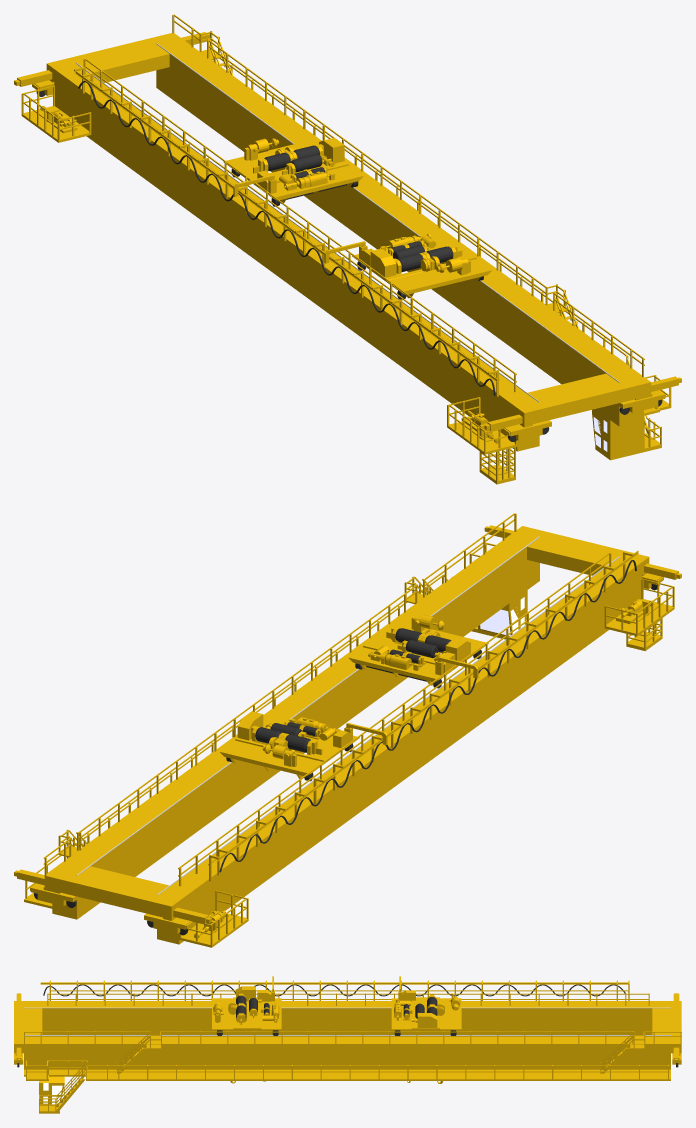
3 views of the same model, one above another, from view 1: azimuth 30°, elevation 25°; view 2: azimuth 150°, elevation 25°; view 3: azimuth 270°, elevation 25° (orthographic). The views are drawn at different scales.
Parts seen in each view (by area): view 1: 3_Factory_C_811_Body, 3_Factory_C_811_Head_02, 3_Factory_C_811_Head_01; view 2: 3_Factory_C_811_Body, 3_Factory_C_811_Head_02, 3_Factory_C_811_Head_01; view 3: 3_Factory_C_811_Body, 3_Factory_C_811_Head_01, 3_Factory_C_811_Head_02.
Boxes of the visible parts, x1,y1,x2,y2 form: 3_Factory_C_811_Body: (14, 14, 681, 484); 3_Factory_C_811_Head_02: (223, 138, 363, 206); 3_Factory_C_811_Head_01: (324, 234, 491, 299); 3_Factory_C_811_Body: (14, 513, 681, 947); 3_Factory_C_811_Head_02: (220, 711, 387, 781); 3_Factory_C_811_Head_01: (349, 614, 488, 688); 3_Factory_C_811_Body: (14, 980, 681, 1113); 3_Factory_C_811_Head_01: (212, 976, 281, 1083); 3_Factory_C_811_Head_02: (391, 976, 461, 1083).
Size of the model in its own units: 11.25 by 6.47 by 47.69.
